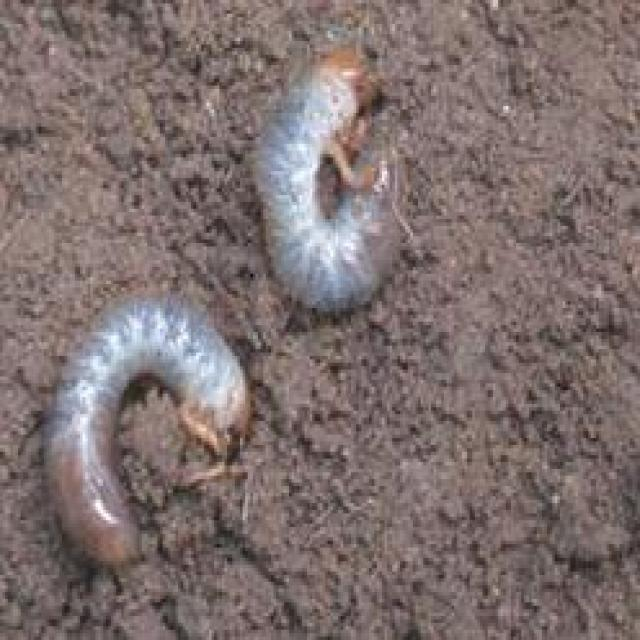Grub-Adult-: (39, 290, 259, 591), (249, 27, 426, 335)
